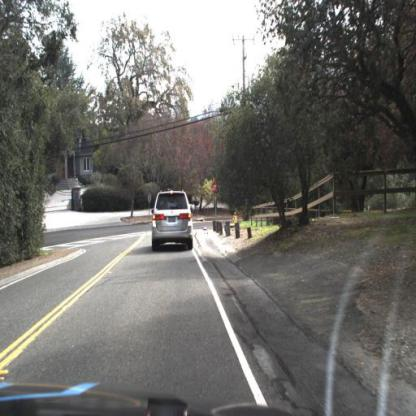car: (151, 190, 193, 256)
